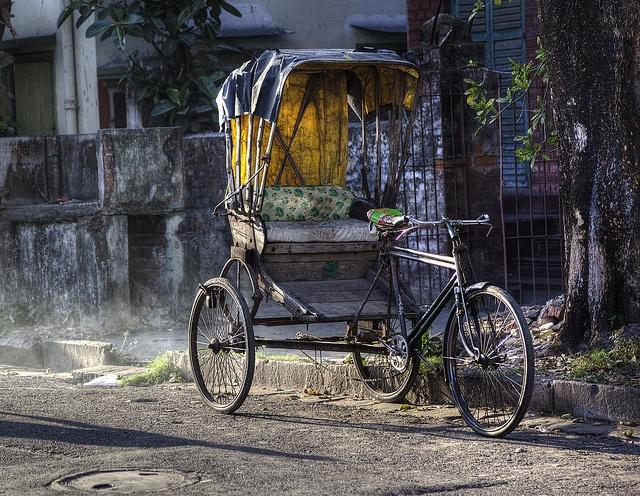Rickshaw: (189, 50, 532, 435)
